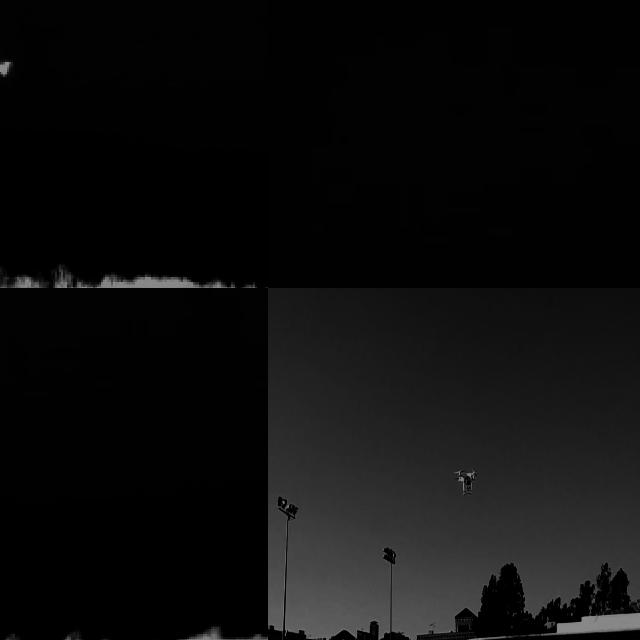1: (0, 52, 24, 87)
drone: (455, 470, 478, 494)
